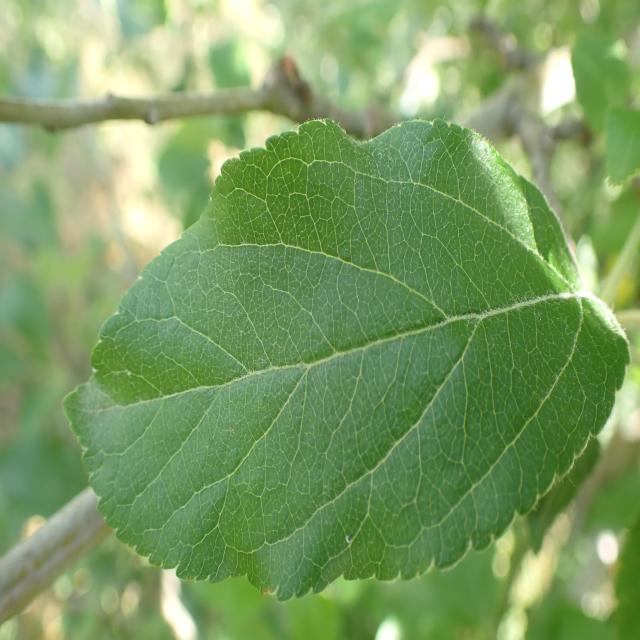healthy: (62, 116, 631, 602)
